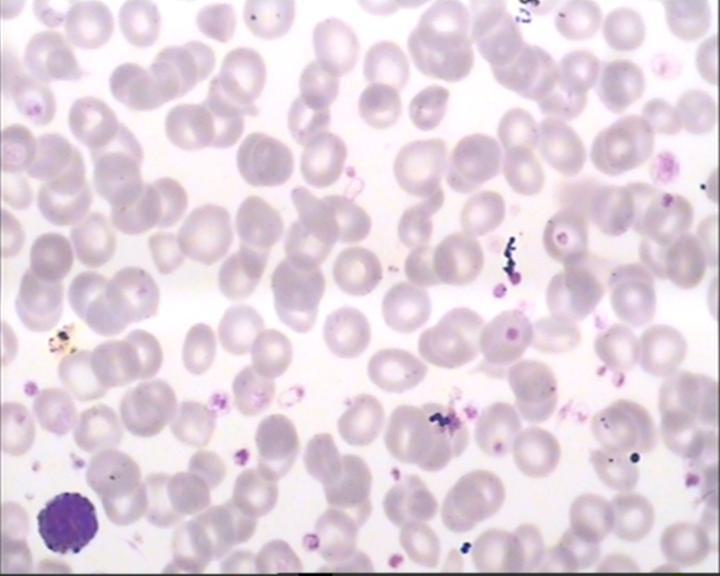baso: (28, 487, 104, 558)
